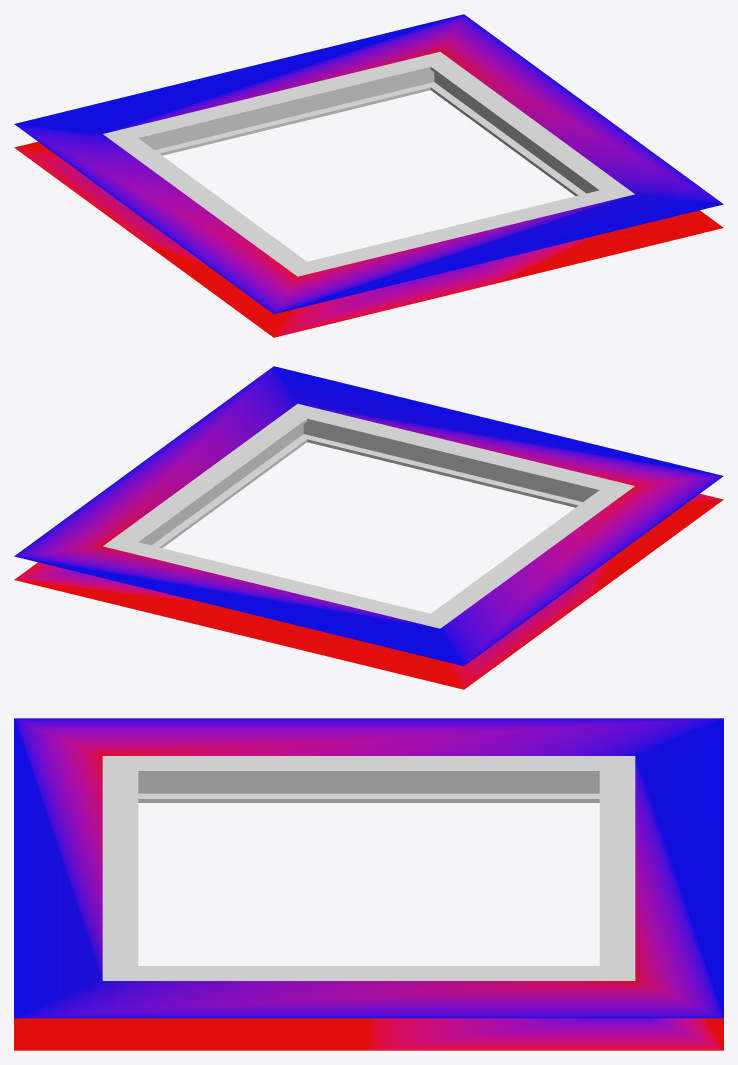
Rendered from CeilingC_A_8x8.fbx.
The picture shows the model from 3 angles, top to bottom: view 1: azimuth 30°, elevation 25°; view 2: azimuth 150°, elevation 25°; view 3: azimuth 270°, elevation 25°; orthographic projection. The views are drawn at different scales.
Parts seen in each view (by area): view 1: Plane, Plane.001, Plane.002; view 2: Plane, Plane.001, Plane.002; view 3: Plane, Plane.001, Plane.002.
Part boxes in pixels (x1=…): Plane: x1=14, y1=14, x2=723, y2=313; Plane.001: x1=103, y1=51, x2=634, y2=276; Plane.002: x1=14, y1=142, x2=723, y2=337; Plane: x1=14, y1=366, x2=723, y2=665; Plane.001: x1=103, y1=403, x2=634, y2=628; Plane.002: x1=14, y1=494, x2=723, y2=689; Plane: x1=14, y1=718, x2=723, y2=1018; Plane.001: x1=102, y1=756, x2=635, y2=980; Plane.002: x1=14, y1=1018, x2=723, y2=1050.
Size of the model in its own units: 800 by 40 by 800.
